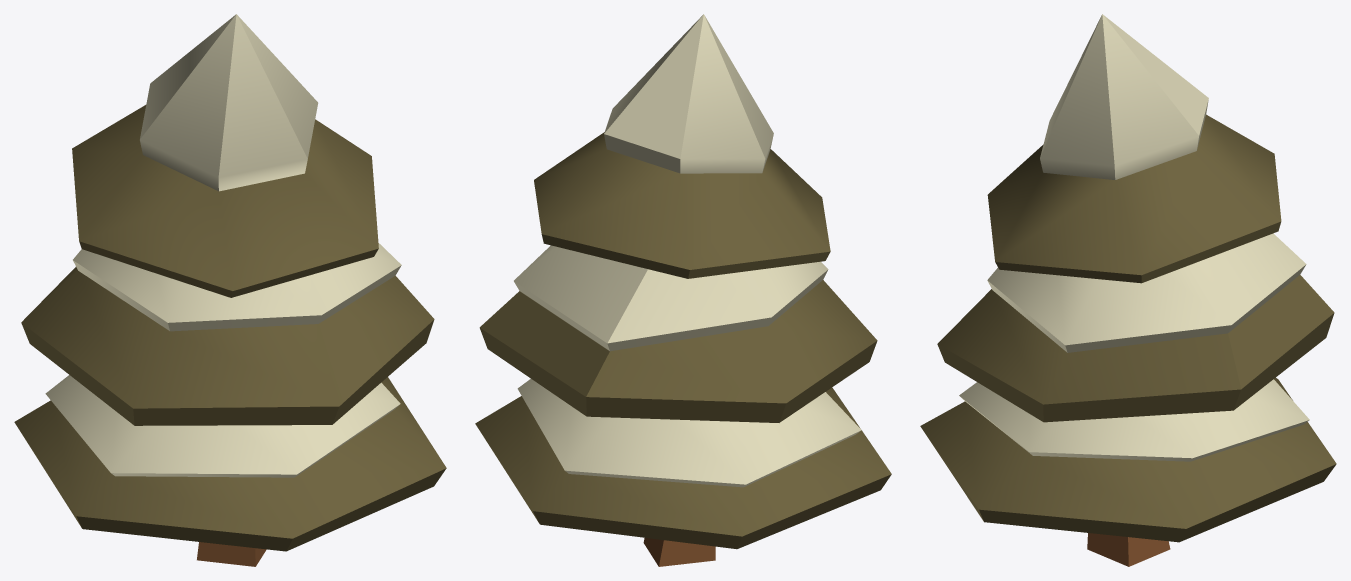
Rendered from gingerbreadTree_1.fbx.
The picture shows the model from 3 angles, left to right: view 1: azimuth 30°, elevation 25°; view 2: azimuth 150°, elevation 25°; view 3: azimuth 270°, elevation 25°; orthographic projection. The views are drawn at different scales.
Visible parts, largest first — view 1: Cylinder.001; view 2: Cylinder.001; view 3: Cylinder.001.
Boxes of the visible parts, left/top/right/bottom form: Cylinder.001: left=14, top=14, right=446, bottom=566; Cylinder.001: left=475, top=14, right=891, bottom=566; Cylinder.001: left=920, top=14, right=1336, bottom=566.
Bounding box in the file's own units: 993 × 1406 × 1002.
